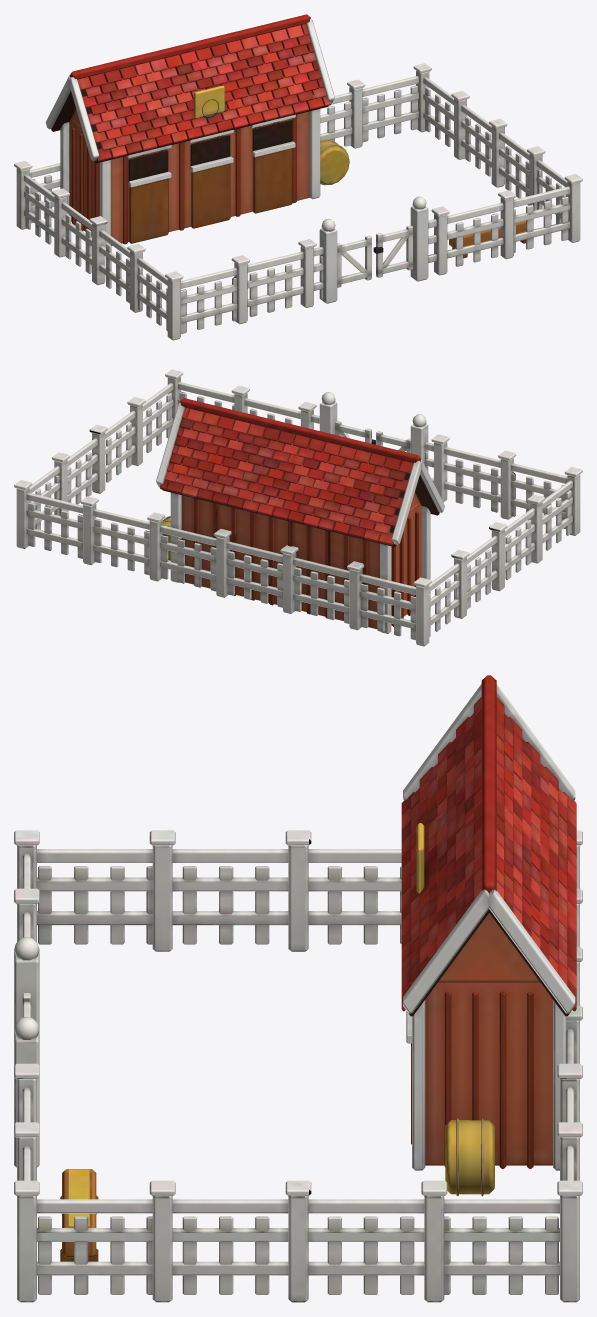
File: pony_paddock.glb
3 renders of one model, top to bottom at view 1: azimuth 30°, elevation 25°; view 2: azimuth 150°, elevation 25°; view 3: azimuth 270°, elevation 25°, orthographic. The views are drawn at different scales.
Parts seen in each view (by area): view 1: pony_paddock, gate1, gate0; view 2: pony_paddock, gate1, gate0; view 3: pony_paddock.
Part boxes in pixels (left/top/right/bottom): pony_paddock: left=14, top=14, right=582, bottom=340; gate1: left=373, top=225, right=413, bottom=277; gate0: left=337, top=235, right=371, bottom=287; pony_paddock: left=14, top=369, right=582, bottom=646; gate1: left=334, top=420, right=375, bottom=444; gate0: left=376, top=431, right=410, bottom=453; pony_paddock: left=14, top=675, right=582, bottom=1302.
Size of the model in its own units: 2.99 by 1.16 by 1.99.
Materials: 1 (1 with a texture image).
